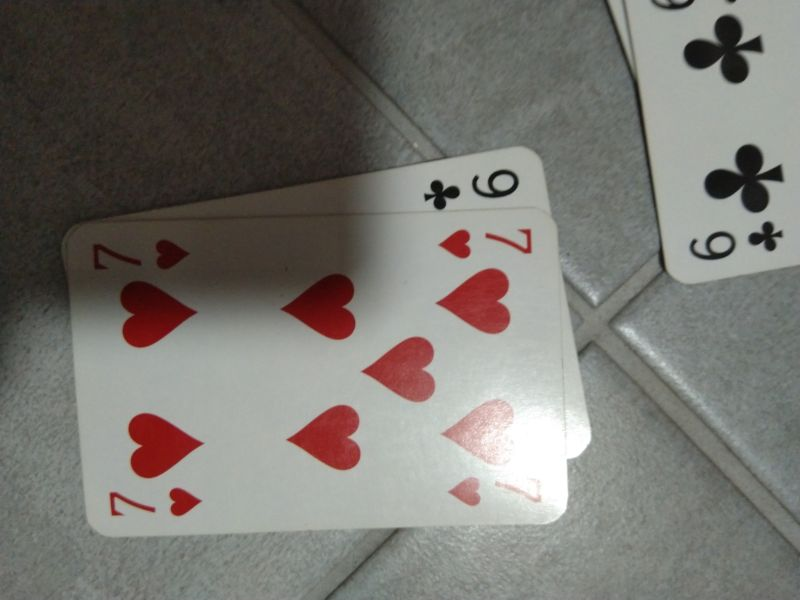6c: (678, 216, 794, 264)
7h: (85, 226, 195, 279), (433, 217, 546, 265), (444, 464, 553, 513), (98, 480, 215, 522)
9c: (419, 158, 525, 211)
